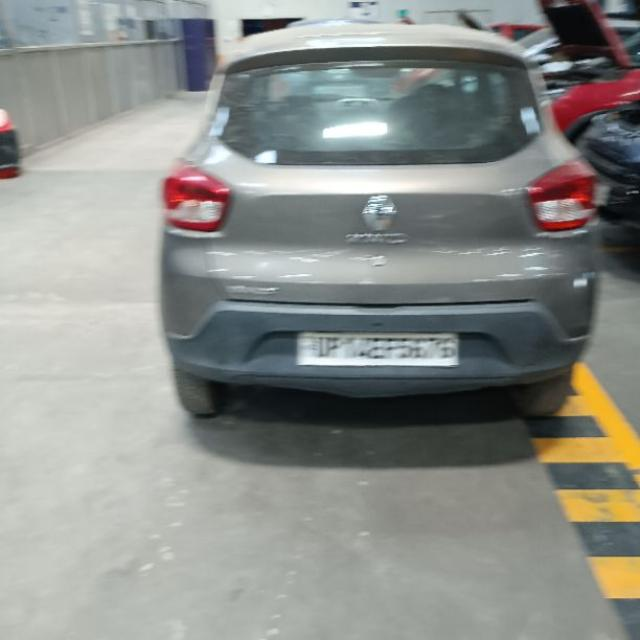license_plate: (294, 331, 460, 368)
